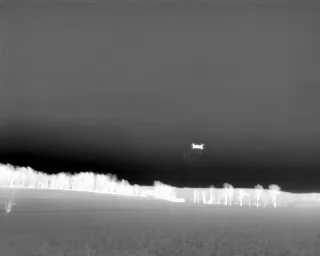DRONE: (187, 138, 208, 156)
